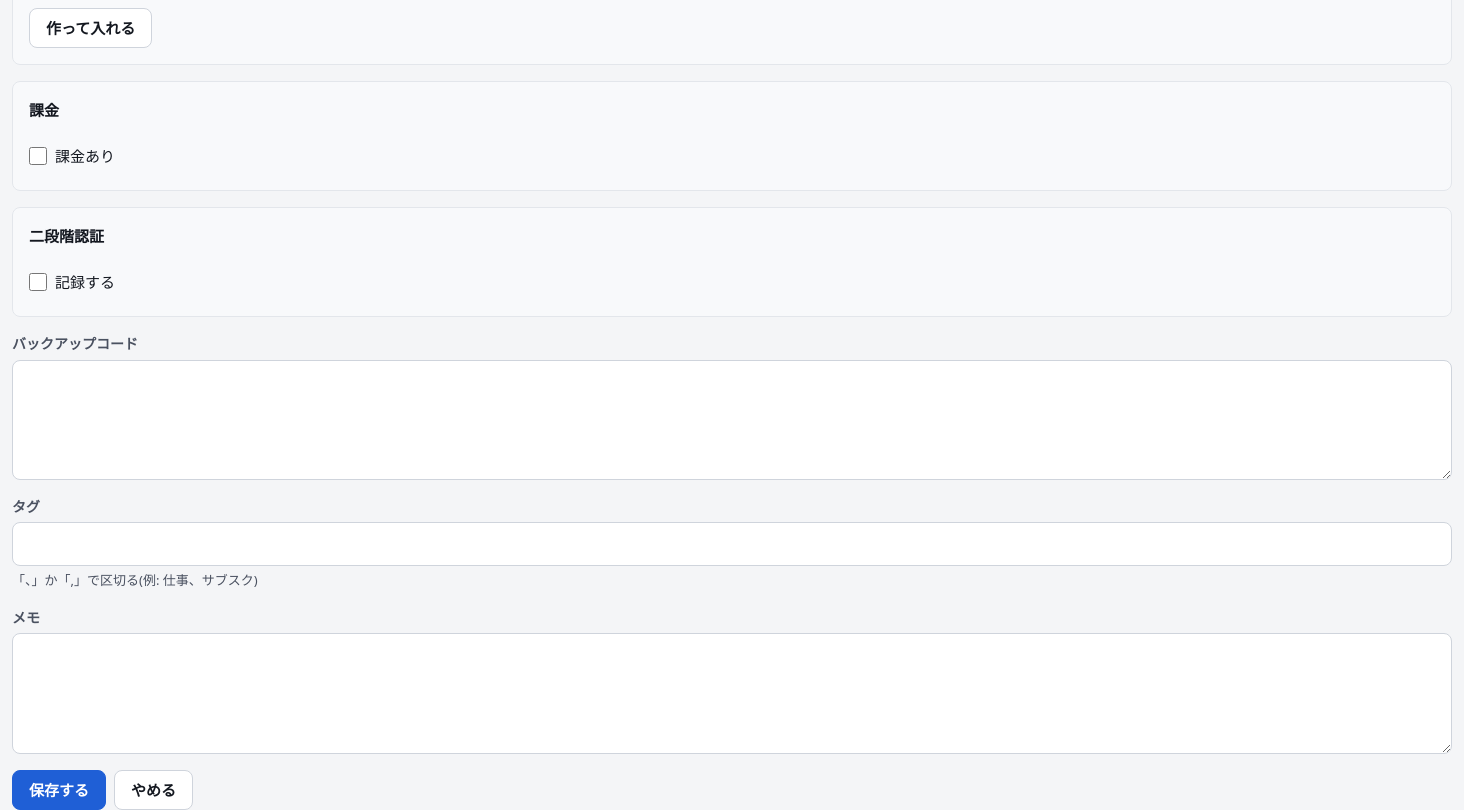
it: 新規登録 › サービス名が空なら、渡さずに知らせる
The width and height of the screenshot is (1464, 810).
(page scrolled)
Click the button "保存する" at [59, 790], box [12, 770, 106, 809]
(page scrolled)
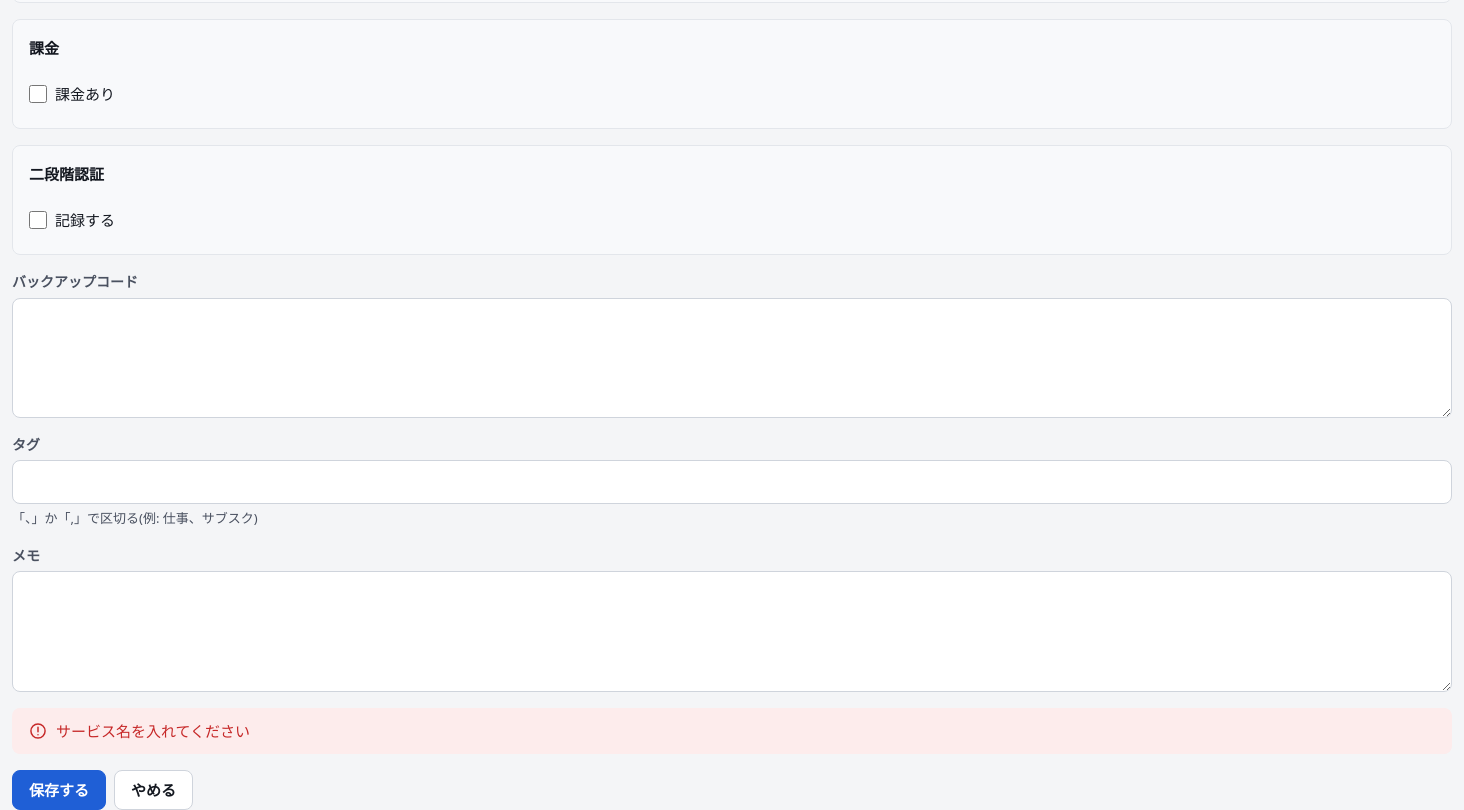
Expected: the message reads "サービス名を入れてください", [56, 721, 250, 741]
